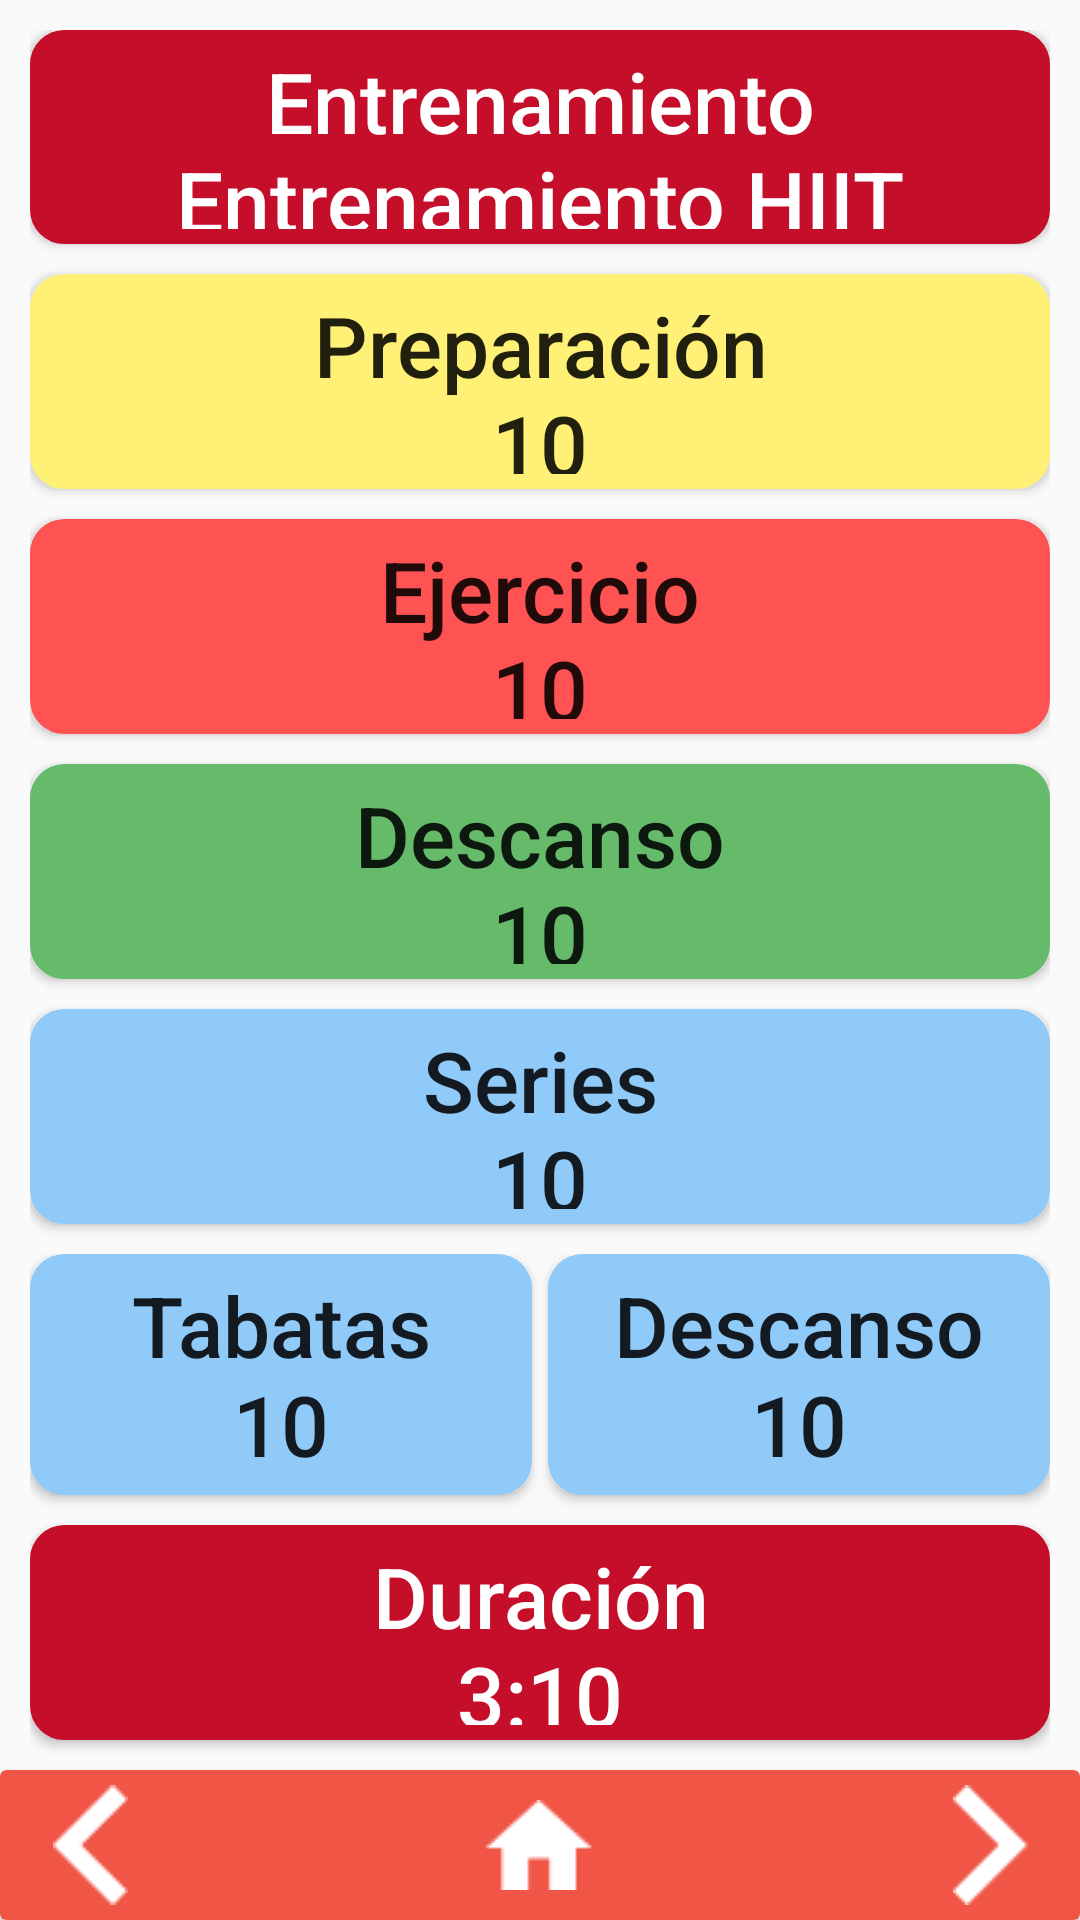

Locate icon controls on the screen. Image size 1080x1920, boxes as (x1, y1, x2, y2).
home: (486, 1800, 592, 1890)
paso atras: (0, 1785, 128, 1920)
siguiente paso: (953, 1785, 1080, 1920)
